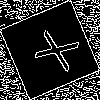X: (25, 25, 80, 73)
